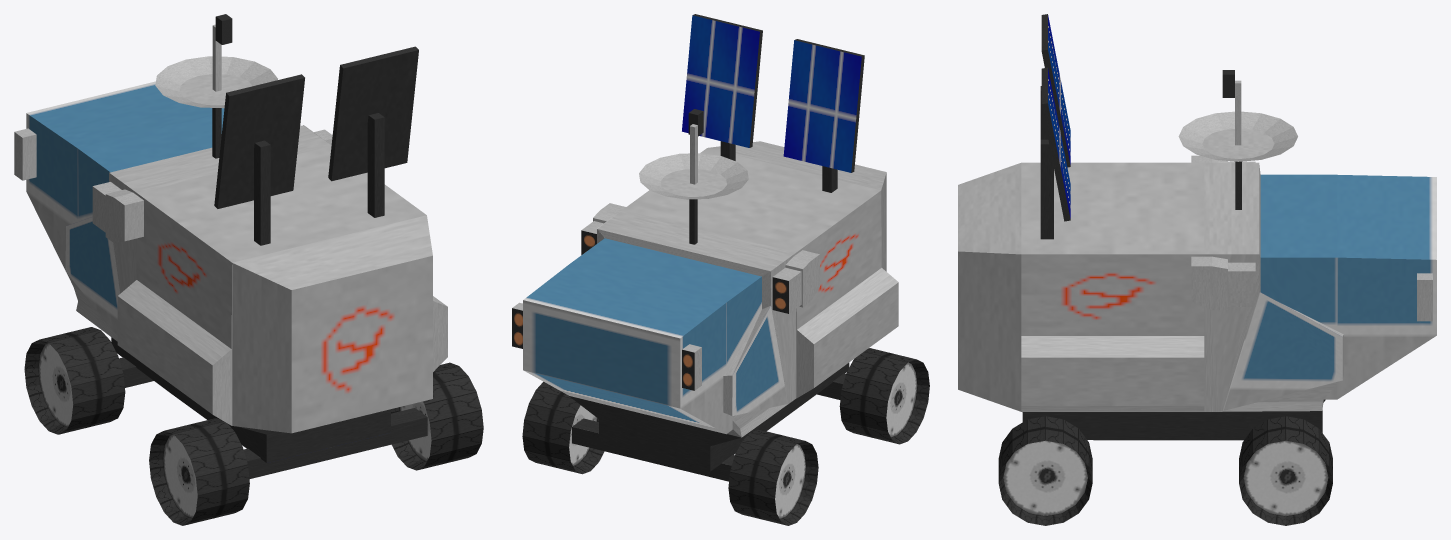
File: mars_rover.obj
The picture shows the model from 3 angles, left to right: view 1: azimuth 30°, elevation 25°; view 2: azimuth 150°, elevation 25°; view 3: azimuth 270°, elevation 25°; orthographic projection. The views are drawn at different scales.
Parts seen in each view (by area): view 1: base, frontWheelL, backWheelL, solarR, solarL, backWheelR, ant, backbase, ltL.001, solarBaseR, solarBaseL, ltL; view 2: base, solarL, solarR, frontWheelL, backWheelL, frontWheelR, ant, ltL.001, frontbase, ltL, ltR.001, ltR; view 3: base, backWheelR, frontWheelR, ant, ltR.001, solarR, solarL, solarBaseR, ltR.
Boxes of the visible parts, x1,y1,x2,y2 form: base: [26, 81, 447, 462]; frontWheelL: [24, 327, 125, 434]; backWheelL: [149, 418, 249, 525]; solarR: [328, 46, 418, 181]; solarL: [214, 74, 304, 208]; backWheelR: [391, 362, 483, 470]; ant: [155, 14, 277, 108]; backbase: [243, 408, 427, 479]; ltL.001: [92, 182, 143, 242]; solarBaseR: [367, 113, 384, 217]; solarBaseL: [254, 140, 270, 245]; ltL: [14, 128, 36, 180]; base: [523, 141, 898, 471]; solarL: [783, 39, 864, 172]; solarR: [682, 14, 762, 147]; frontWheelL: [728, 429, 818, 525]; backWheelL: [839, 348, 929, 444]; frontWheelR: [522, 381, 604, 474]; ant: [639, 109, 748, 199]; ltL.001: [772, 250, 819, 313]; frontbase: [572, 418, 734, 481]; ltL: [682, 344, 701, 390]; ltR.001: [581, 203, 625, 254]; ltR: [512, 302, 522, 348]; base: [958, 162, 1436, 440]; backWheelR: [998, 416, 1092, 525]; frontWheelR: [1239, 416, 1332, 525]; ant: [1178, 70, 1297, 161]; ltR.001: [1191, 256, 1255, 310]; solarR: [1041, 67, 1070, 221]; solarL: [1041, 14, 1070, 167]; solarBaseR: [1040, 139, 1053, 239]; ltR: [1417, 273, 1432, 321].
Size of the model in its own units: 4.82 by 6.76 by 7.29.
